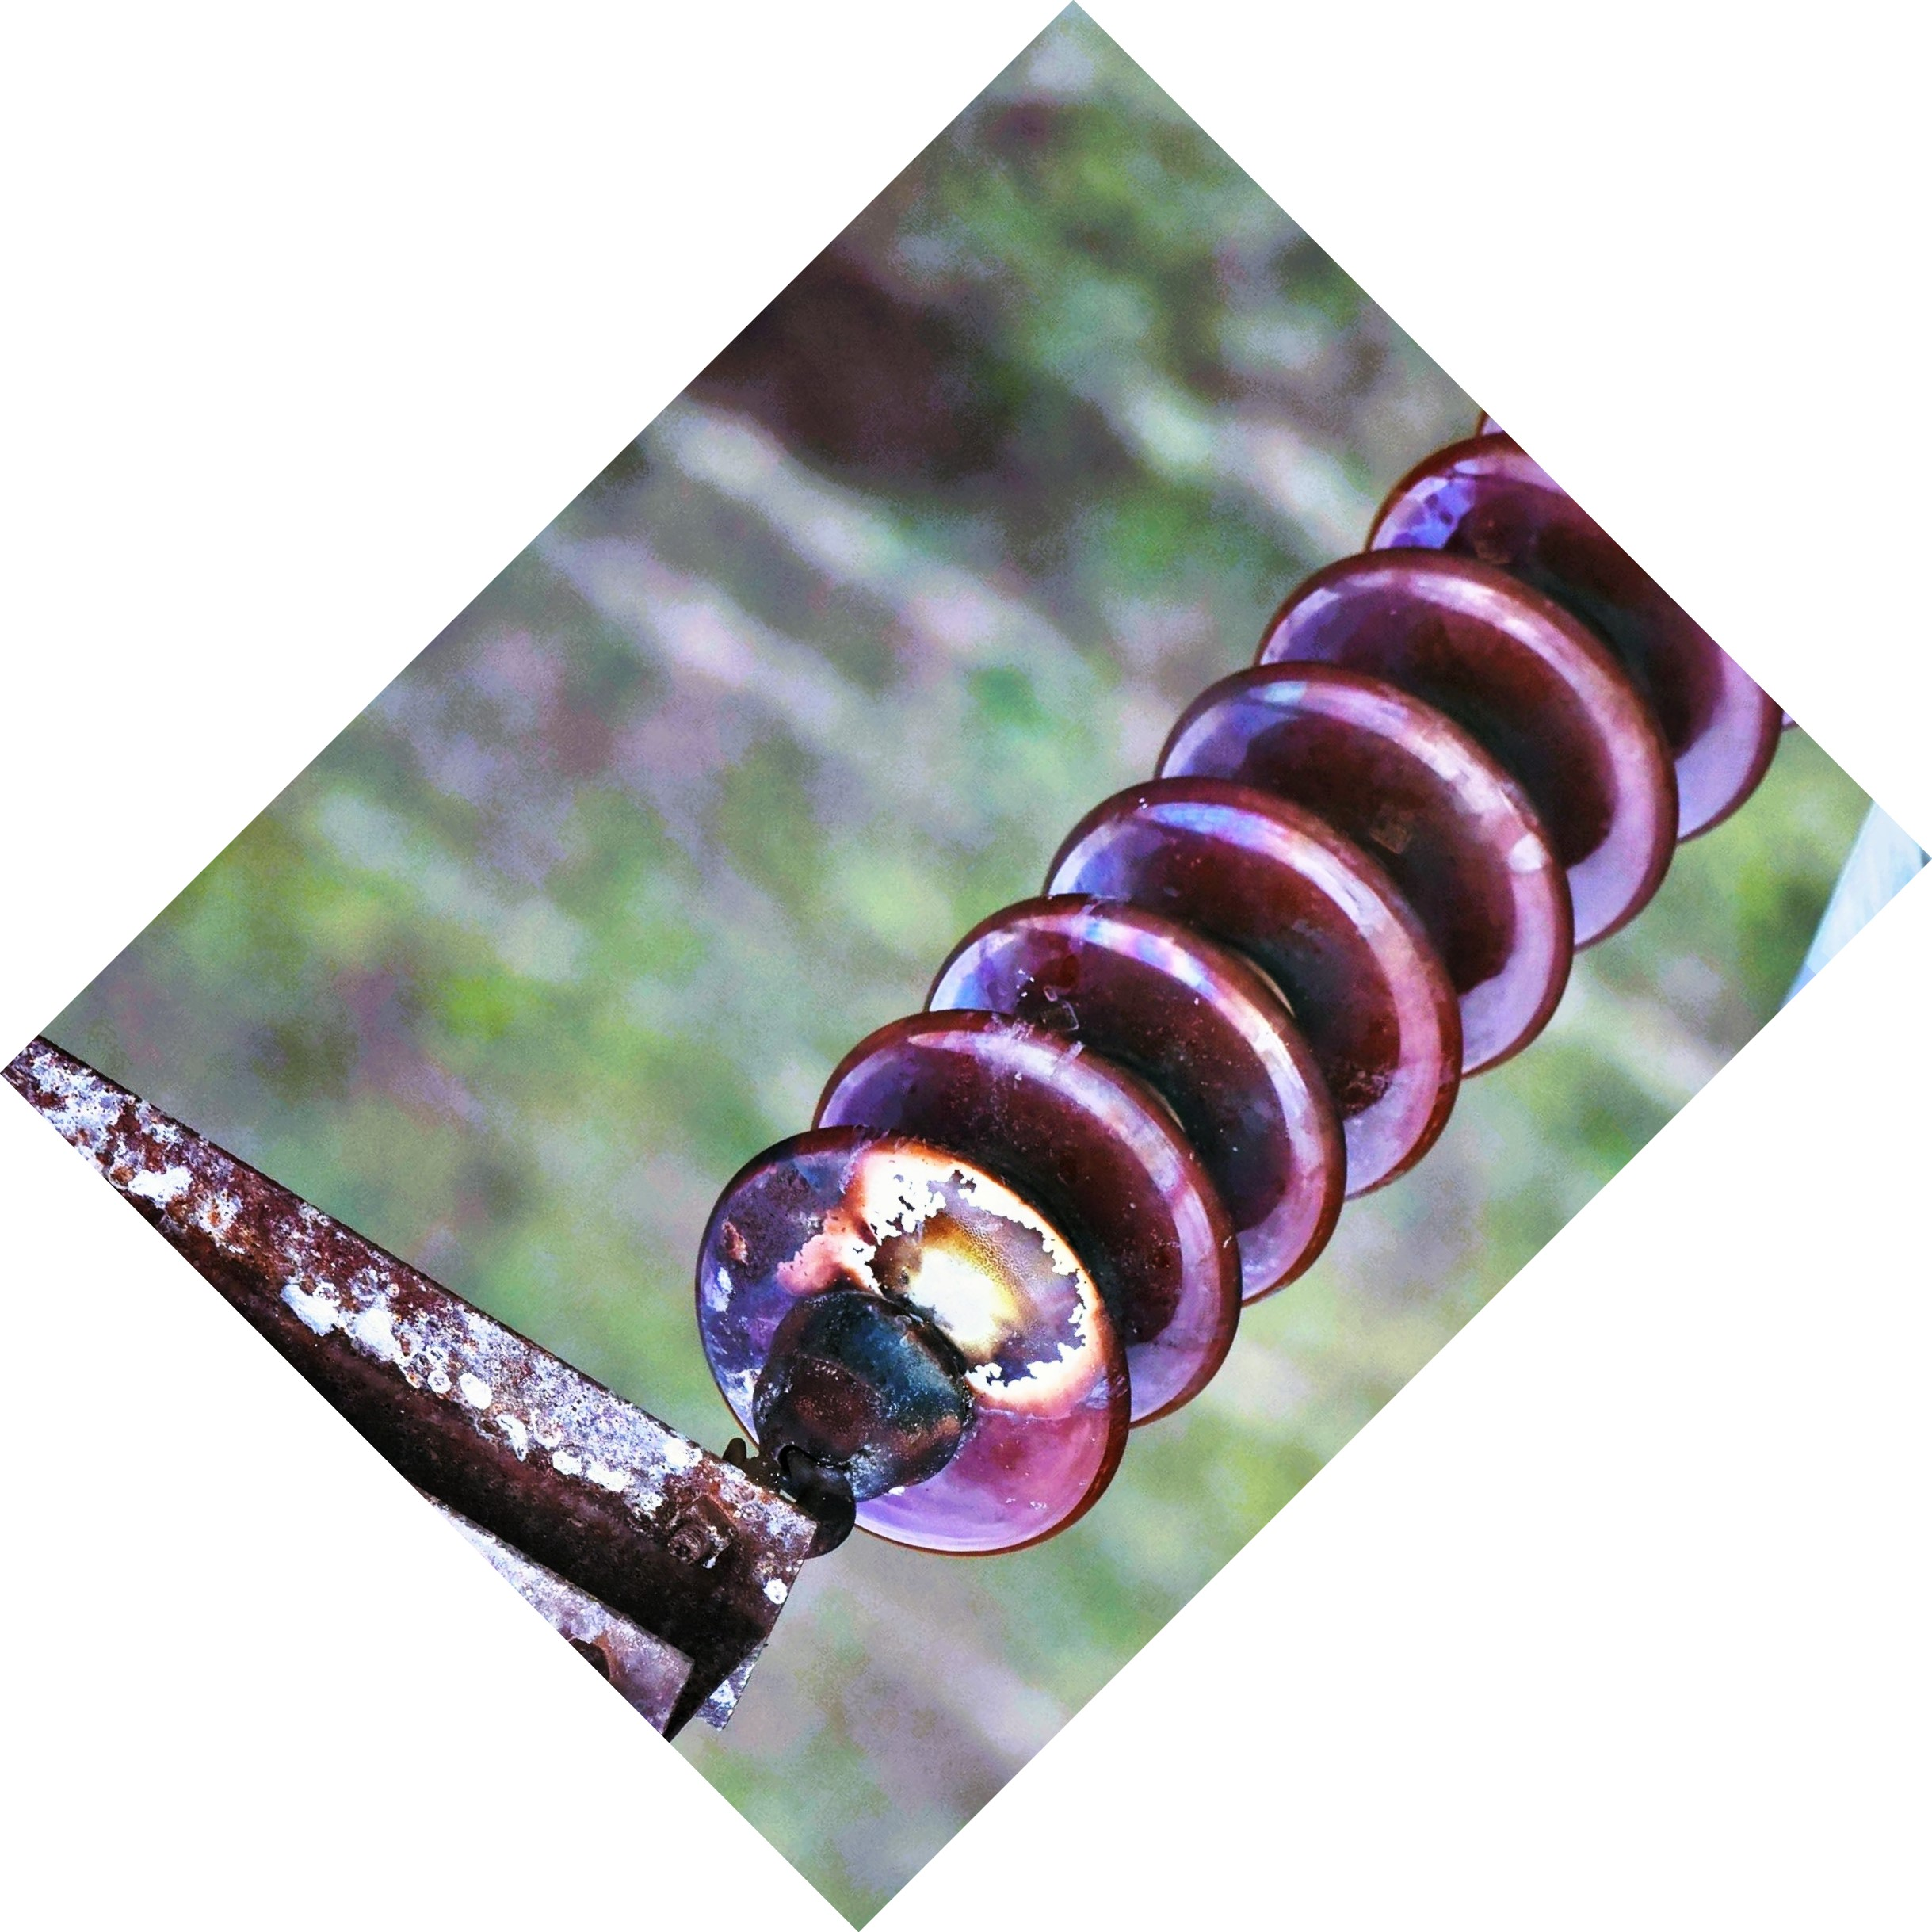Insulator flashover: (663, 1088, 1136, 1592)
